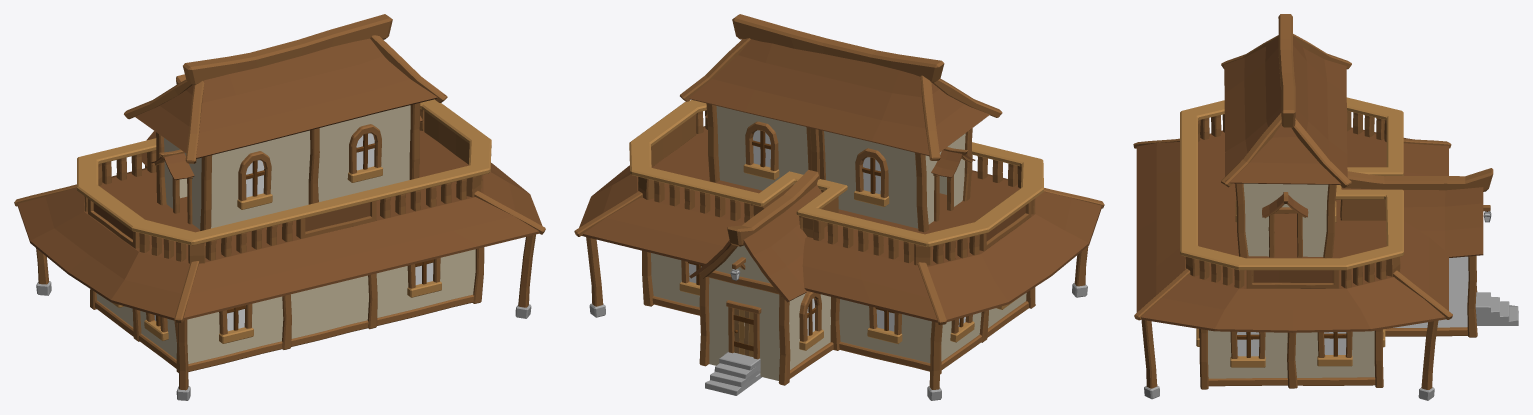
The model's file is Grande Maison.fbx.
The picture shows the model from 3 angles, left to right: view 1: azimuth 30°, elevation 25°; view 2: azimuth 150°, elevation 25°; view 3: azimuth 270°, elevation 25°; orthographic projection. The views are drawn at different scales.
Visible parts, largest first — view 1: Plane.016, Plan.044, Plane.019, Plane.009, Plane.017, Cube.682, Plan.046, Cube.667, Plane.020, Plane.012, Cube.650, Cube.685 (+21 smaller); view 2: Plane.016, Plan.045, Plane.017, Plane.018, Plane.013, Plane.010, Plan.042, Cube.682, Plan.046, Cube.681, Cube.596, Plane.014 (+27 smaller); view 3: Plane.016, Plane.017, Plan.044, Plane.011, Plan.045, Plan.043, Plane.021, Plan.047, Cube.681, Cube.650, Cube.682, Plane.015 (+23 smaller).
Boxes of the visible parts, bbox=[...] form: Plane.016: bbox=[17, 130, 544, 320]; Plan.044: bbox=[196, 38, 445, 158]; Plane.019: bbox=[211, 105, 410, 228]; Plane.009: bbox=[187, 249, 475, 363]; Plane.017: bbox=[77, 99, 491, 245]; Cube.682: bbox=[183, 14, 392, 85]; Plan.046: bbox=[135, 85, 193, 152]; Cube.667: bbox=[296, 201, 376, 238]; Plane.020: bbox=[164, 138, 201, 229]; Plane.012: bbox=[96, 293, 176, 359]; Cube.650: bbox=[424, 111, 469, 164]; Cube.685: bbox=[370, 35, 447, 102]; Plane.016: bbox=[579, 126, 1101, 322]; Plan.045: bbox=[689, 38, 929, 155]; Plane.017: bbox=[629, 100, 1043, 247]; Plane.018: bbox=[716, 106, 918, 228]; Plane.013: bbox=[709, 245, 779, 380]; Plane.010: bbox=[651, 253, 931, 363]; Plan.042: bbox=[743, 184, 821, 302]; Cube.682: bbox=[732, 14, 944, 82]; Plan.046: bbox=[931, 83, 989, 152]; Cube.681: bbox=[727, 170, 818, 246]; Cube.596: bbox=[705, 351, 761, 395]; Plane.014: bbox=[789, 293, 830, 369]; Plane.016: bbox=[1136, 127, 1448, 332]; Plane.017: bbox=[1180, 97, 1403, 270]; Plan.044: bbox=[1224, 36, 1281, 181]; Plane.011: bbox=[1208, 330, 1374, 378]; Plan.045: bbox=[1293, 37, 1347, 177]; Plan.043: bbox=[1340, 187, 1483, 257]; Plane.021: bbox=[1243, 183, 1328, 256]; Plan.047: bbox=[1229, 125, 1340, 184]; Cube.681: bbox=[1341, 168, 1493, 191]; Cube.650: bbox=[1246, 270, 1339, 288]; Cube.682: bbox=[1278, 14, 1295, 127]; Plane.015: bbox=[1393, 256, 1468, 327].
Size of the model in its own units: 1080 by 650 by 877.
